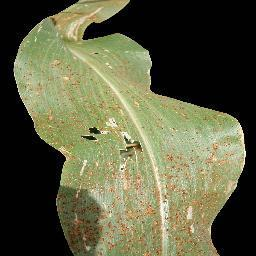Corn_Common_Rust: (1, 0, 250, 256)
